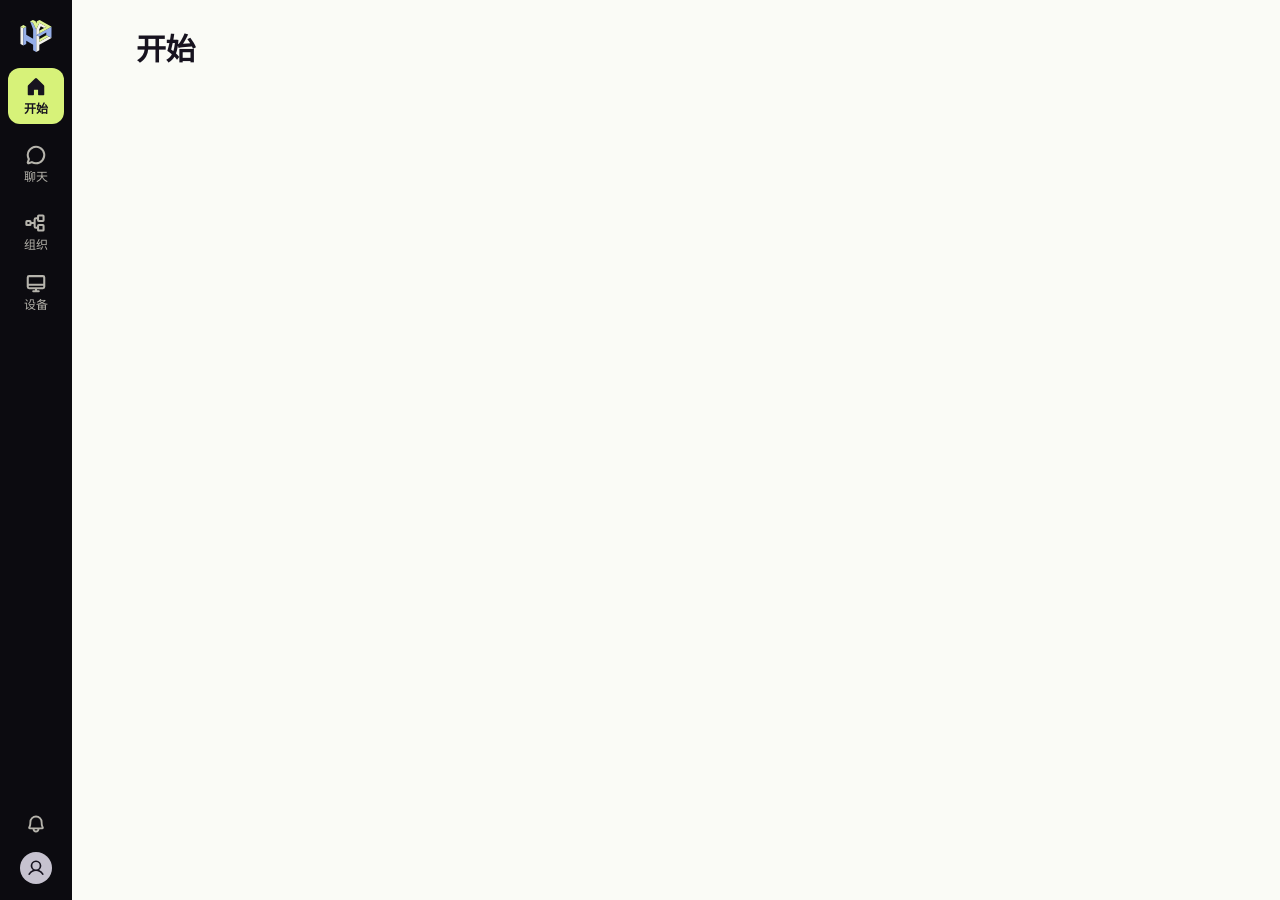
Scenario: org.list authorityDevice 映射 › authorityDevice=true 时预禁用离开组织，且不发起 org.leave
Step 1. Click the button "组织" → (36, 232), box [8,204,64,260]
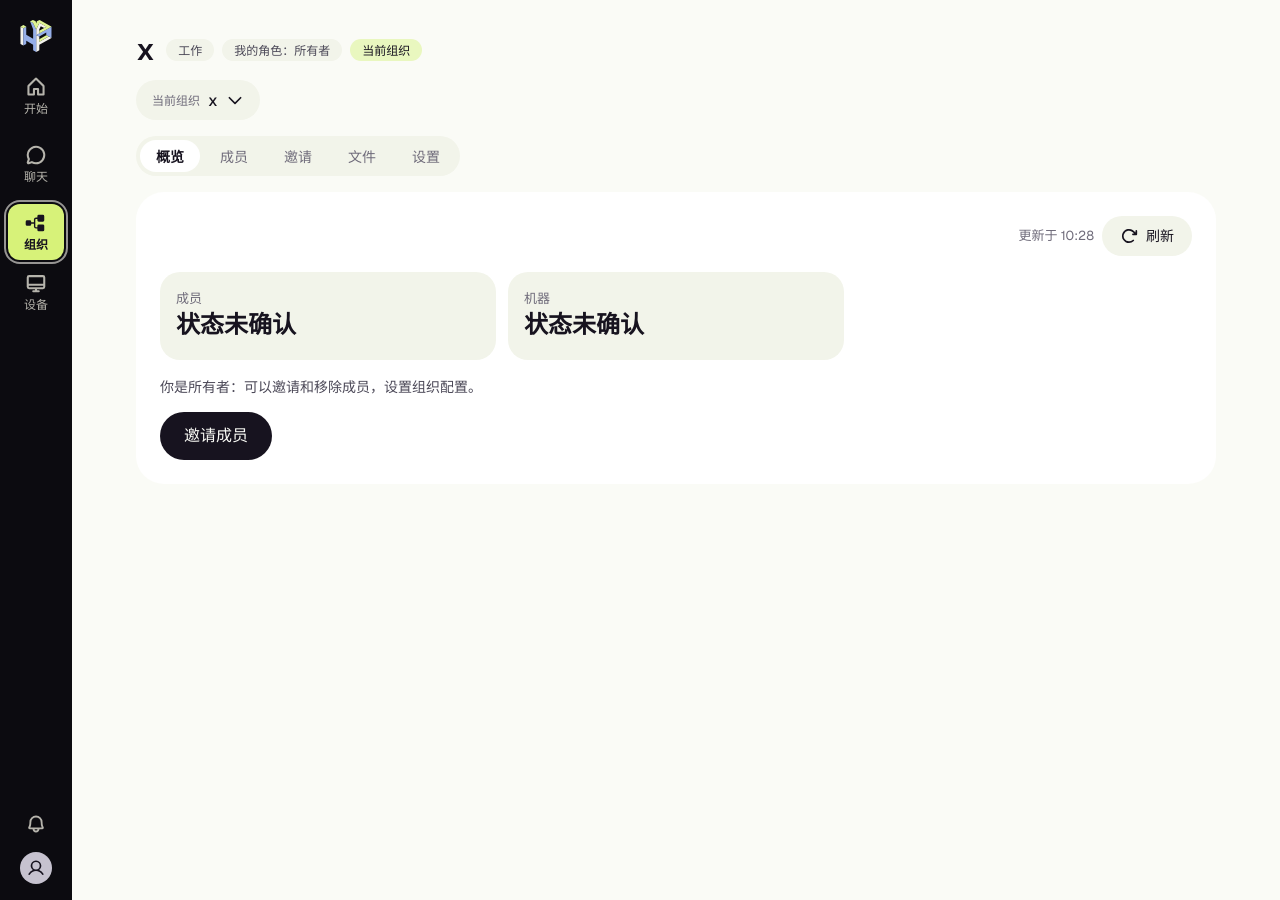
Step 2. Click the tab "设置" → (426, 156), box [396,140,456,172]
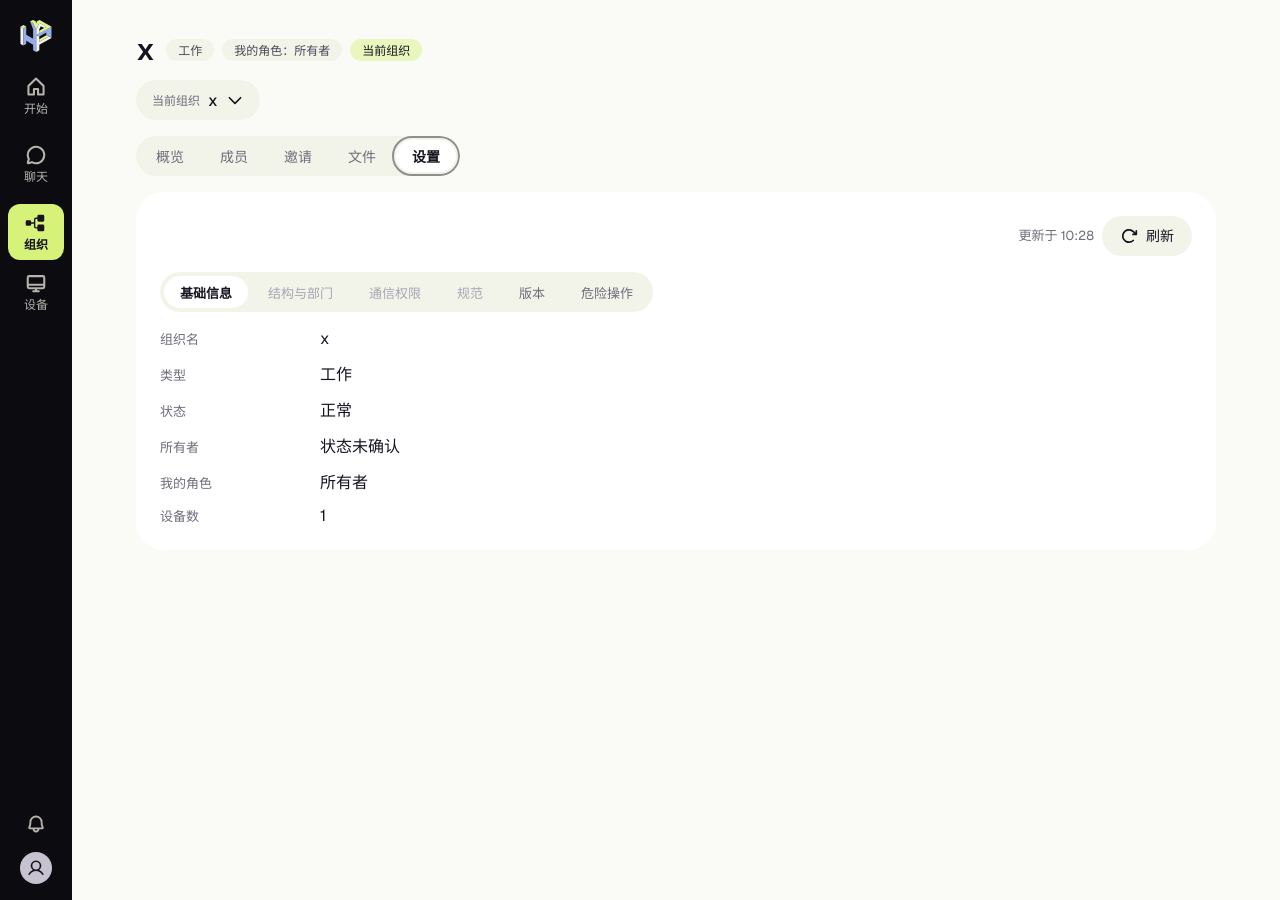
Step 3. Click the tab "危险操作" → (607, 292), box [565,276,649,308]
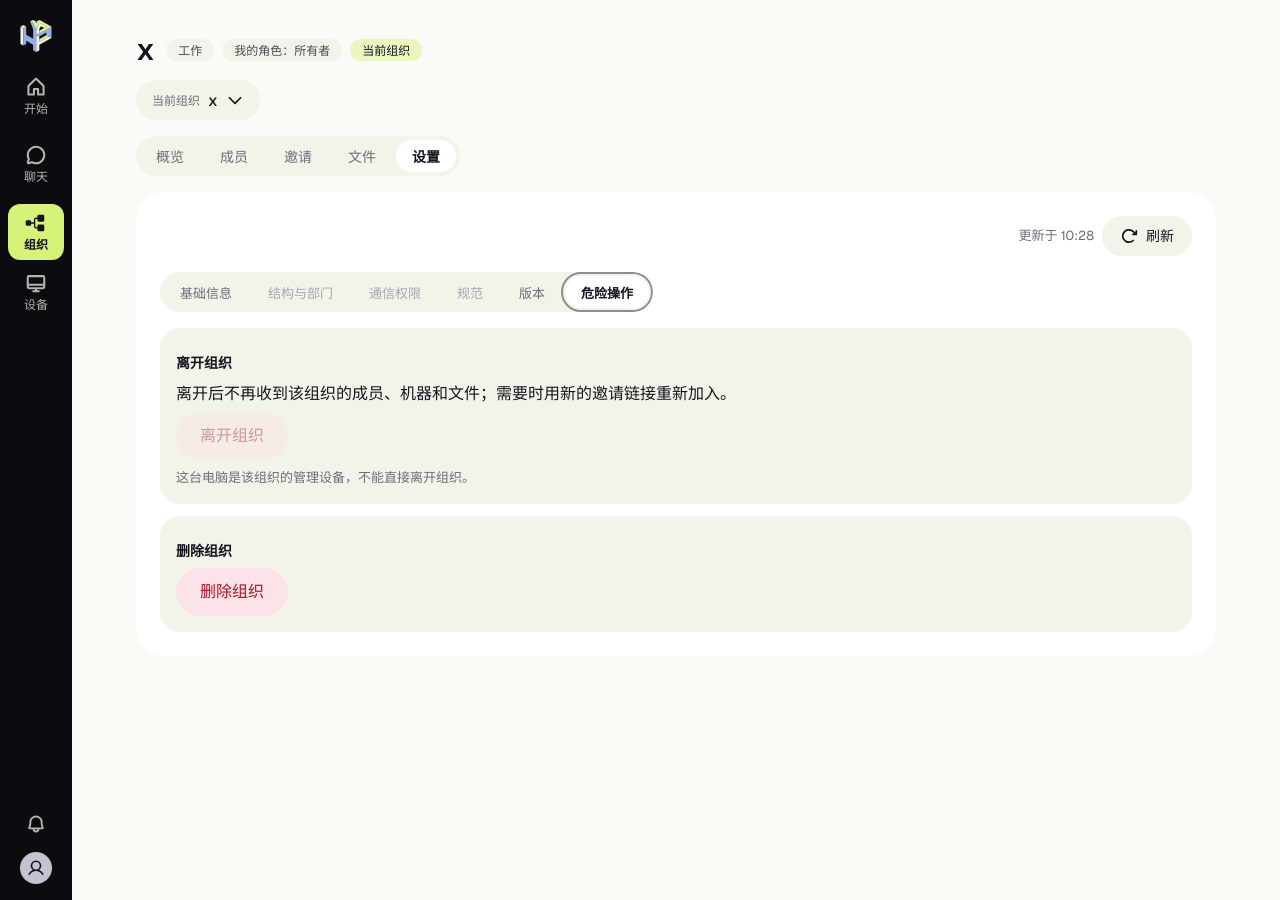
Expected: the button "离开组织" is disabled, [176,412,288,460]
Expected: the text "这台电脑是该组织的管理设备，不能直接离开组织。" is shown, [176,468,475,488]
